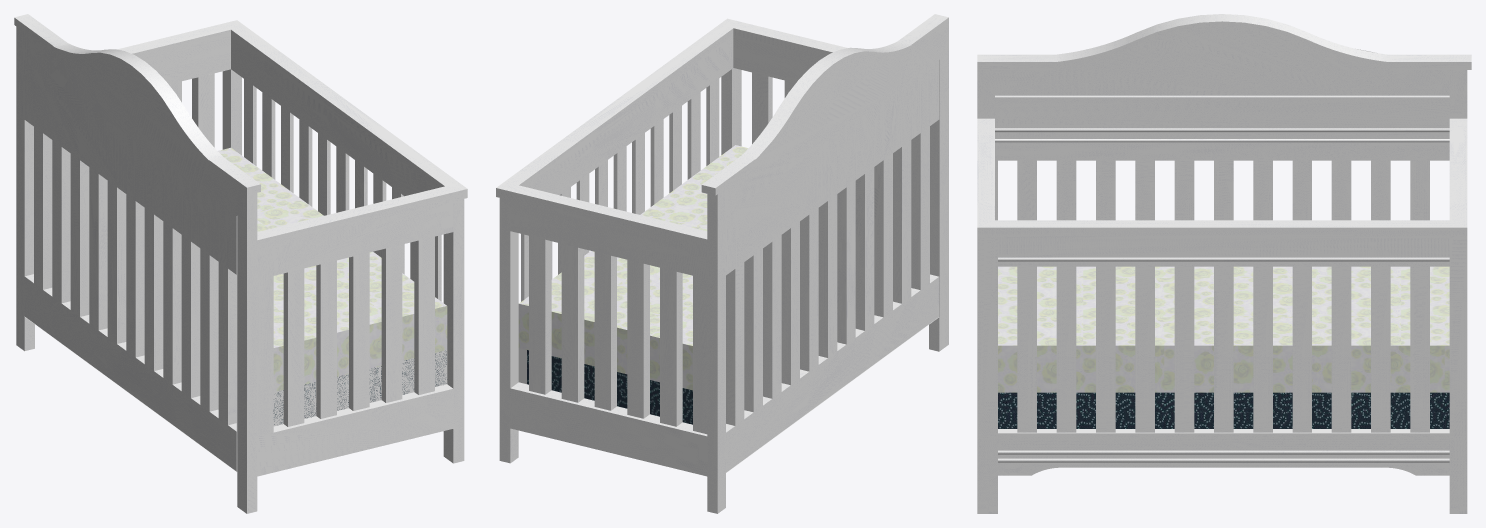
3 views of the same model, side by side, from view 1: azimuth 30°, elevation 25°; view 2: azimuth 150°, elevation 25°; view 3: azimuth 270°, elevation 25° (orthographic). The views are drawn at different scales.
Visible parts, largest first — view 1: Eddie_Bauer_Langley_Crib (×3); view 2: Eddie_Bauer_Langley_Crib (×4); view 3: Eddie_Bauer_Langley_Crib (×4).
Boxes of the visible parts, left/top/right/bottom form: Eddie_Bauer_Langley_Crib (×3): left=14, top=14, right=467, bottom=513; Eddie_Bauer_Langley_Crib (×4): left=496, top=14, right=948, bottom=513; Eddie_Bauer_Langley_Crib (×4): left=977, top=14, right=1471, bottom=513.
Size of the model in its own units: 30.75 by 56 by 48.38.
4 materials, 2 textured.
